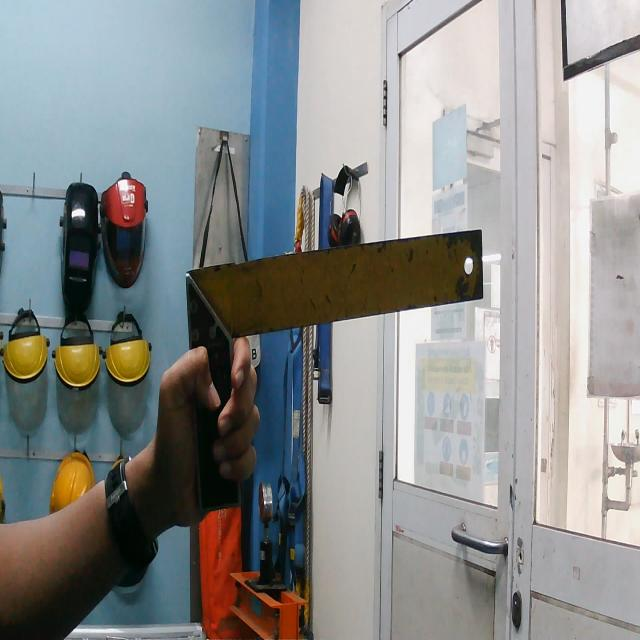penggaris_siku: (180, 221, 487, 523)
